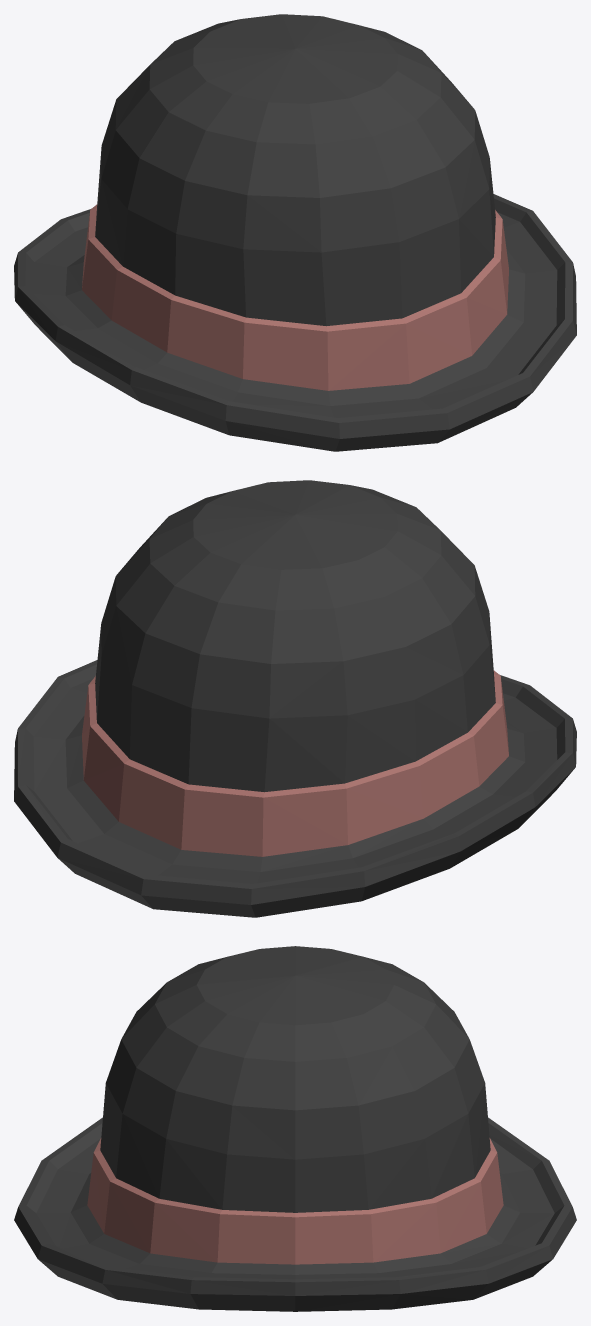
Rendered from hatM.fbx.
3 views of the same model, one above another, from view 1: azimuth 30°, elevation 25°; view 2: azimuth 150°, elevation 25°; view 3: azimuth 270°, elevation 25° (orthographic). The views are drawn at different scales.
Visible parts, largest first — view 1: MomHat; view 2: MomHat; view 3: MomHat.
Part boxes in pixels (<box>): MomHat: <box>14,14,576,451</box>; MomHat: <box>14,480,576,917</box>; MomHat: <box>14,946,576,1311</box>.
Size of the model in its own units: 110 by 64.59 by 123.
